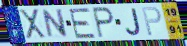E: (68, 7, 97, 40)
J: (124, 7, 142, 37)
N: (41, 8, 69, 40)
P: (91, 6, 115, 40), (141, 6, 163, 37)
X: (18, 8, 48, 41)
